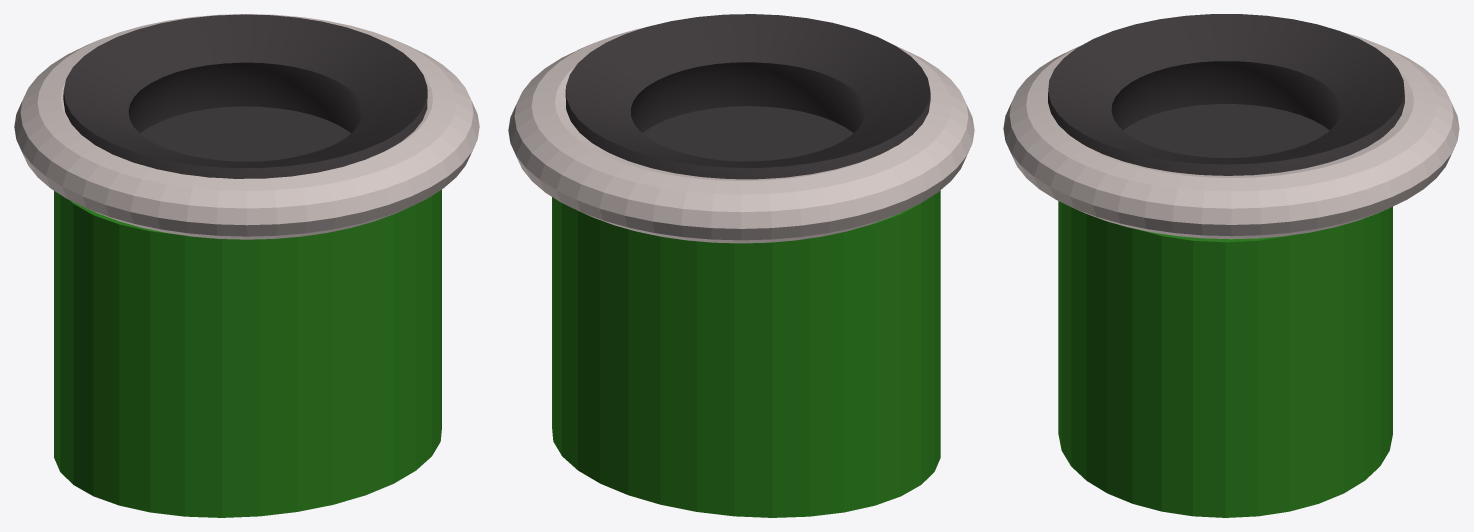
File: basurero.fbx
3 views of the same model, side by side, from view 1: azimuth 30°, elevation 25°; view 2: azimuth 150°, elevation 25°; view 3: azimuth 270°, elevation 25° (orthographic). The views are drawn at different scales.
Parts seen in each view (by area): view 1: Cylinder, Merged_Meshes, Torus; view 2: Cylinder, Merged_Meshes, Torus; view 3: Cylinder, Merged_Meshes, Torus.
Part boxes in pixels (<box>): Cylinder: <box>54,189,441,517</box>; Merged_Meshes: <box>63,14,427,178</box>; Torus: <box>14,14,479,239</box>; Cylinder: <box>552,190,940,517</box>; Merged_Meshes: <box>565,14,930,179</box>; Torus: <box>508,27,974,243</box>; Cylinder: <box>1058,201,1392,517</box>; Merged_Meshes: <box>1048,14,1404,175</box>; Torus: <box>1003,32,1459,239</box>.
Size of the model in its own units: 150 by 125 by 150.
